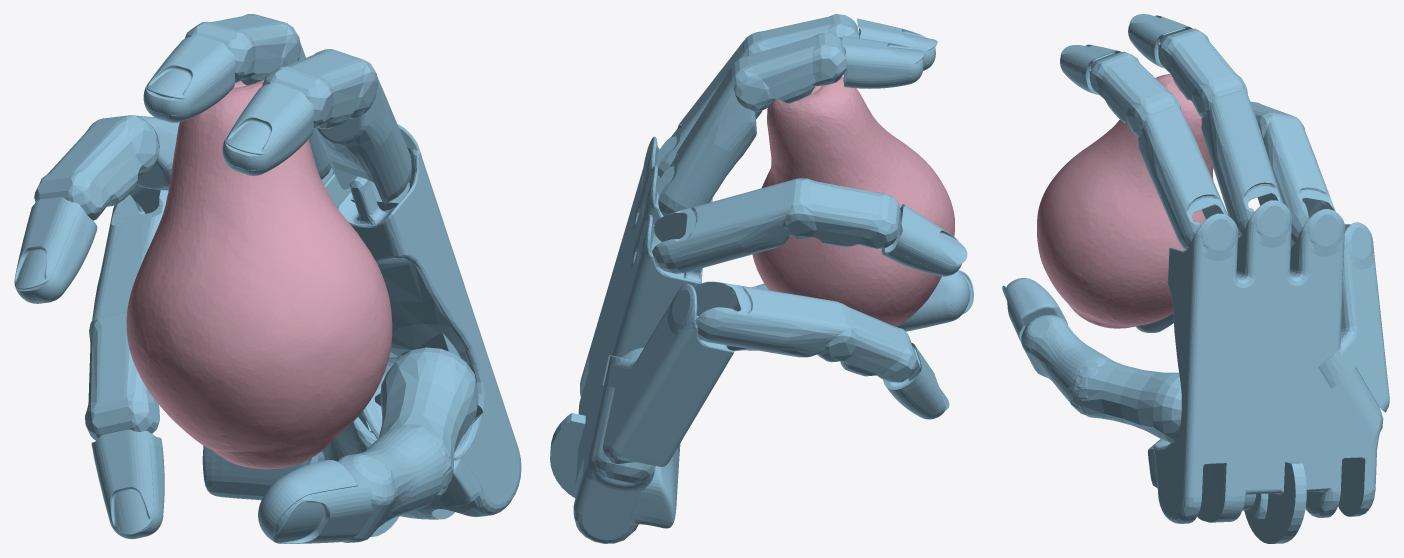
3 renders of one model, left to right at view 1: azimuth 30°, elevation 25°; view 2: azimuth 150°, elevation 25°; view 3: azimuth 270°, elevation 25°, orthographic. The views are drawn at different scales.
Parts seen in each view (by area): view 1: world, pear.stl; view 2: world, pear.stl; view 3: world, pear.stl.
Part boxes in pixels (<box>): world: <box>14,14,521,543</box>; pear.stl: <box>126,79,392,469</box>; world: <box>550,14,973,543</box>; pear.stl: <box>752,76,954,326</box>; world: <box>1002,14,1389,543</box>; pear.stl: <box>1037,74,1213,328</box>.
Size of the model in its own units: 0.1466 by 0.1706 by 0.1385.
